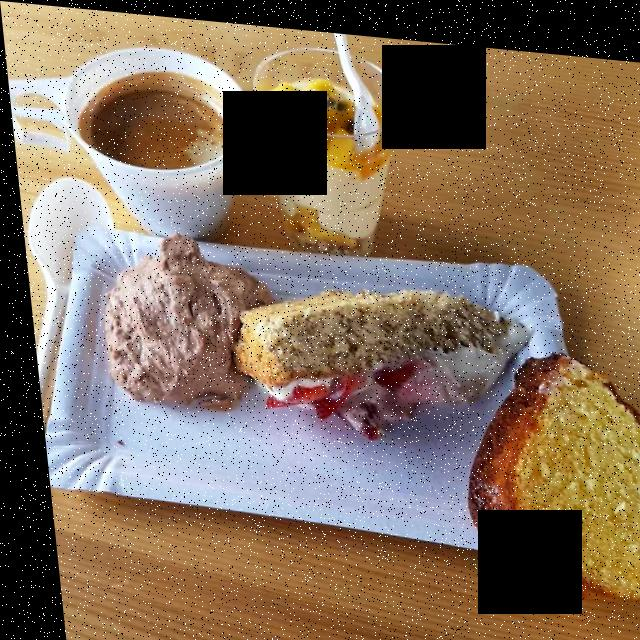cake-oblong: (244, 288, 504, 382)
chocolate-mousse: (93, 238, 277, 407)
coffee-with-caffeine: (74, 62, 225, 158)
cream: (261, 325, 492, 410)
lemon-cake: (453, 343, 640, 588)
mango: (288, 210, 366, 250)
strawberries: (252, 352, 417, 443)
